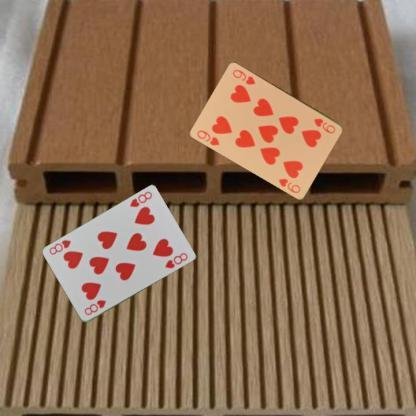8h: (127, 189, 153, 209), (82, 298, 108, 316)
9h: (194, 127, 220, 147), (311, 116, 337, 134)
